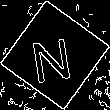N_N: (31, 27, 79, 83)
